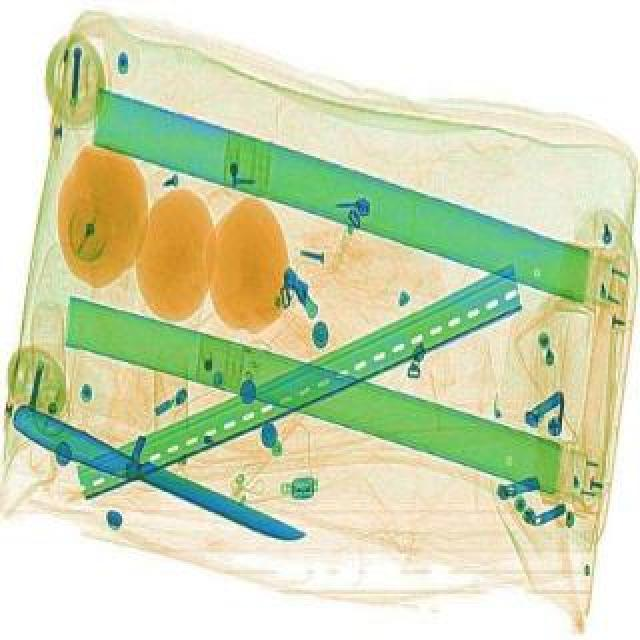knife: (4, 400, 308, 552)
